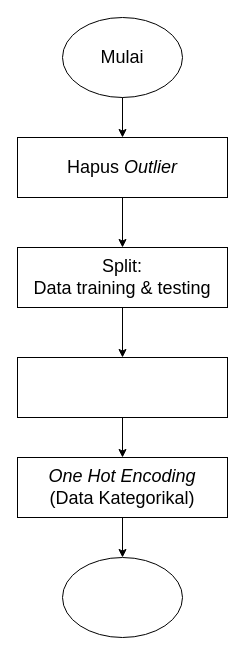
Some shapes in this 245 by 655 pixel diagram are drawn without their labels. Each missing label, with the centre of its shape:
MinMax Scaller (Data Numerik): point 122,387
Selesai: point 122,597
